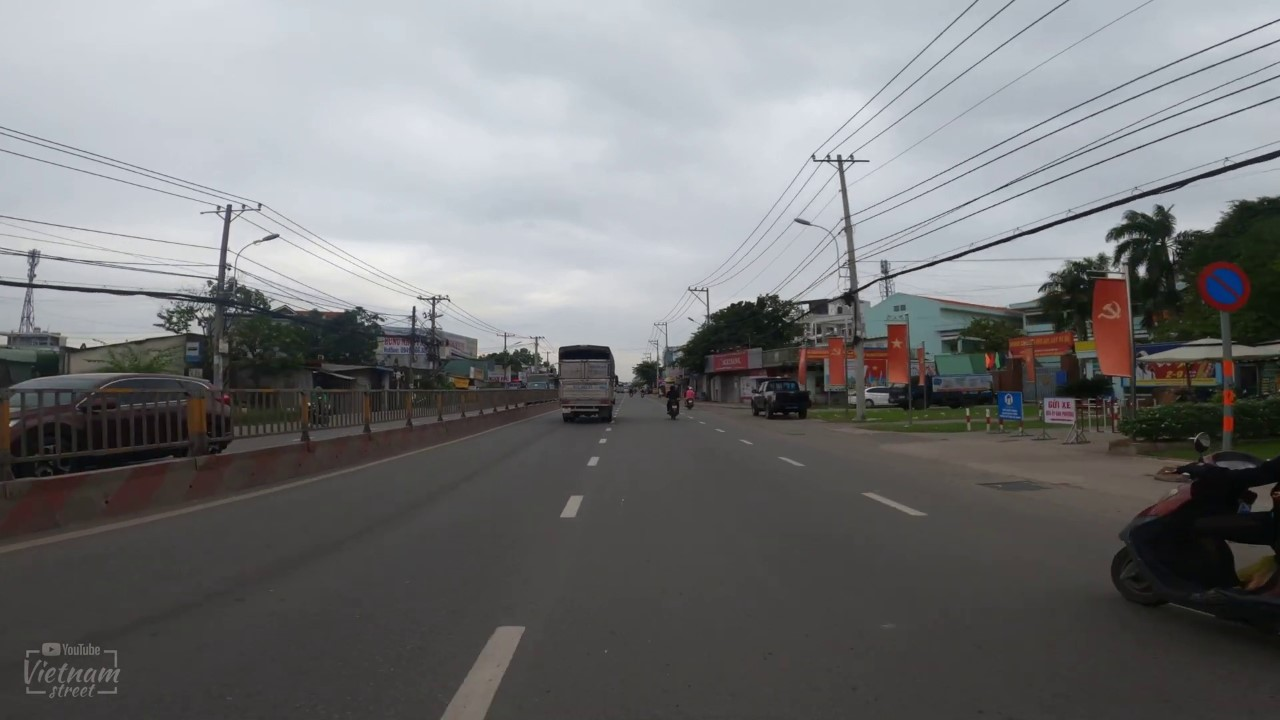cam_do_xe: (1198, 261, 1250, 312)
